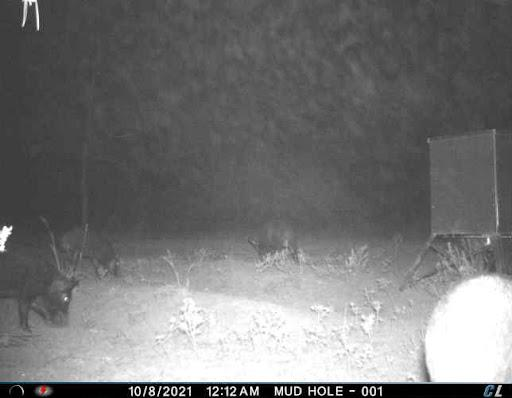Hog: (416, 264, 509, 384), (0, 251, 78, 333), (56, 221, 128, 287), (251, 227, 302, 270)
